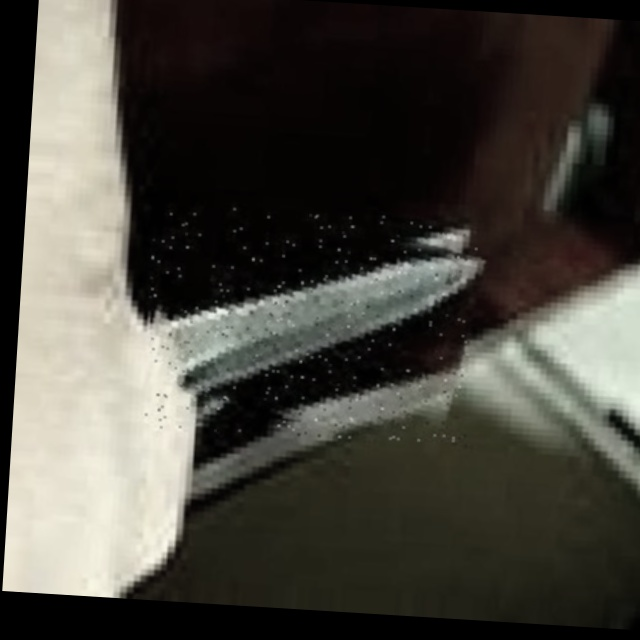Sharp-Object: (141, 200, 482, 447)
